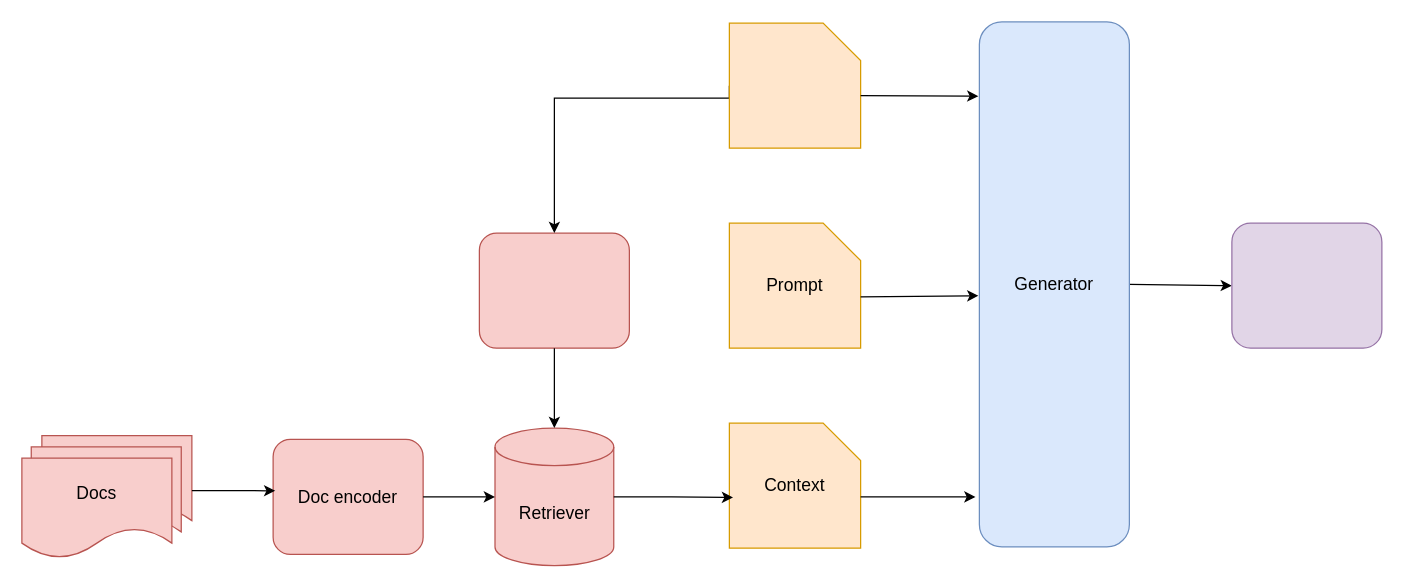
Image size: 1404x588. Some labels were removed from this diagram. The centre of each missing label's shape, as x and y in pixels:
"Input" belongs at pixel 794 85.
"Output" belongs at pixel 1306 285.
"Query encoder" belongs at pixel 553 290.
